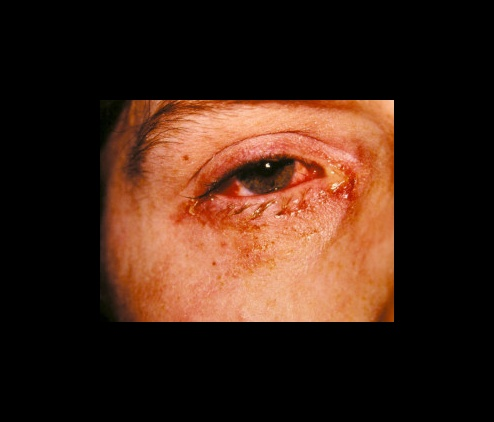SJS-TEN: (94, 95, 398, 325)
